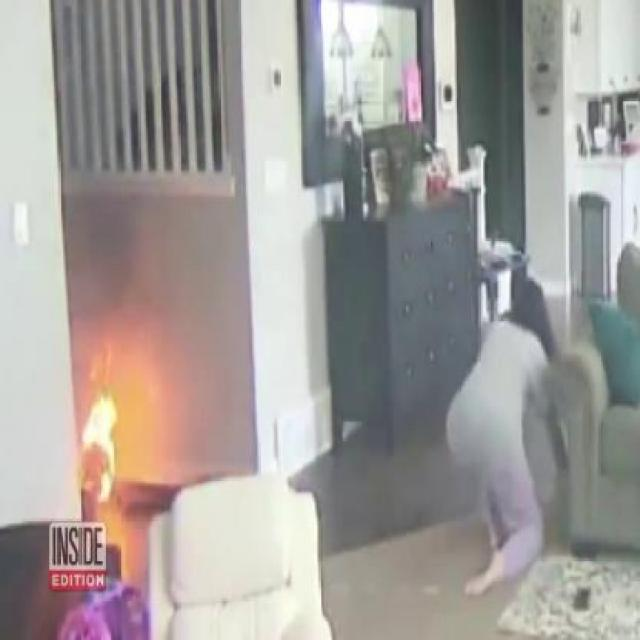fire: (63, 338, 131, 488)
